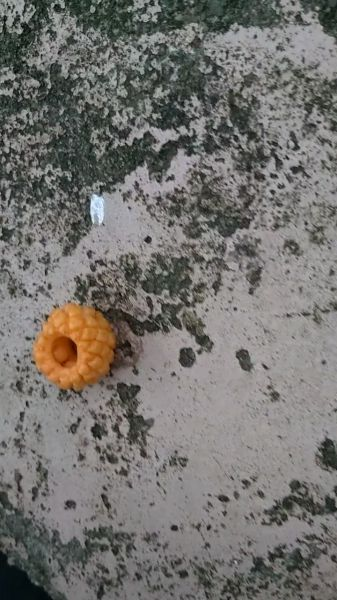eggs: (26, 299, 122, 390)
